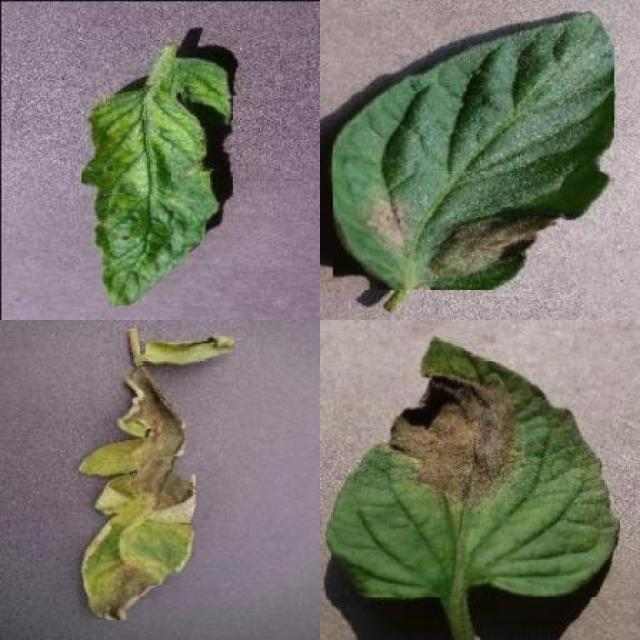Late Blight: (333, 9, 614, 290), (326, 335, 620, 598), (78, 366, 195, 620), (146, 332, 234, 367)
Mosaic Virus: (81, 57, 233, 306)
